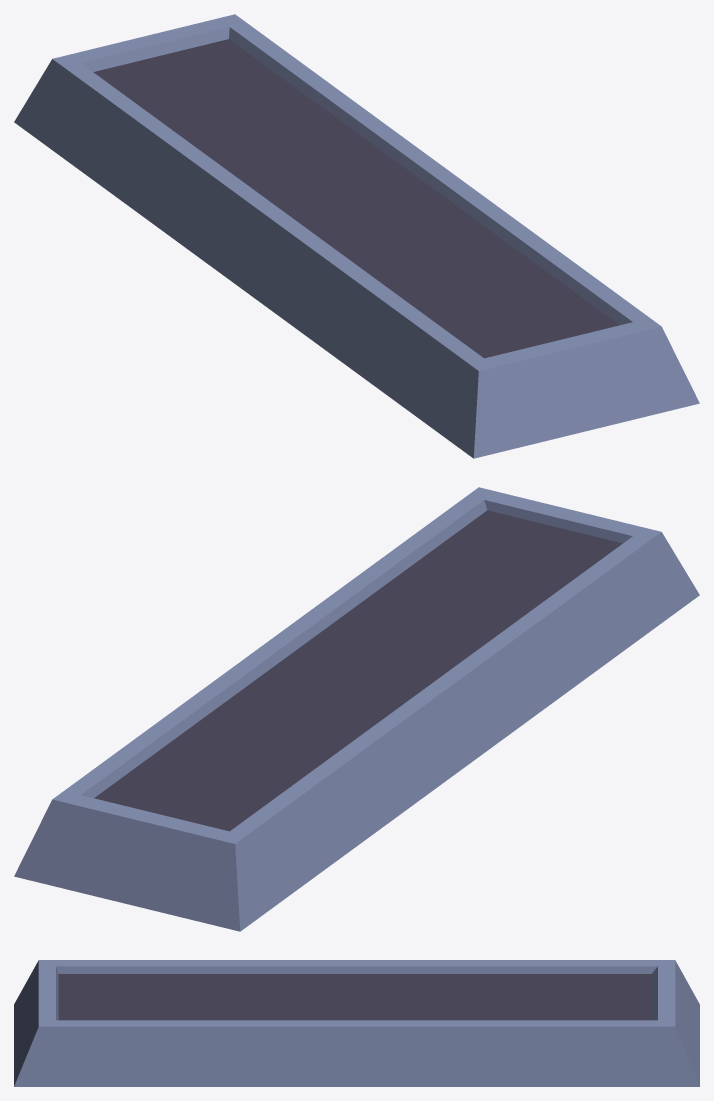
File: obstacle-circular_saw_blade_H2.glb
3 views of the same model, one above another, from view 1: azimuth 30°, elevation 25°; view 2: azimuth 150°, elevation 25°; view 3: azimuth 270°, elevation 25° (orthographic). The views are drawn at different scales.
Visible parts, largest first — view 1: obstacle-circular_saw_blade_H2; view 2: obstacle-circular_saw_blade_H2; view 3: obstacle-circular_saw_blade_H2.
Part boxes in pixels (bbox=[...]): obstacle-circular_saw_blade_H2: bbox=[14, 14, 699, 458]; obstacle-circular_saw_blade_H2: bbox=[14, 487, 699, 931]; obstacle-circular_saw_blade_H2: bbox=[14, 960, 699, 1086].
Bounding box in the file's own units: 2.99 × 0.8874 × 10.53.
